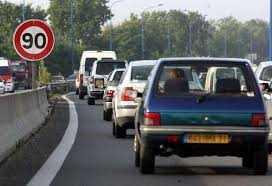Speed_limit_90km: (12, 19, 55, 60)
car: (132, 53, 270, 178)
